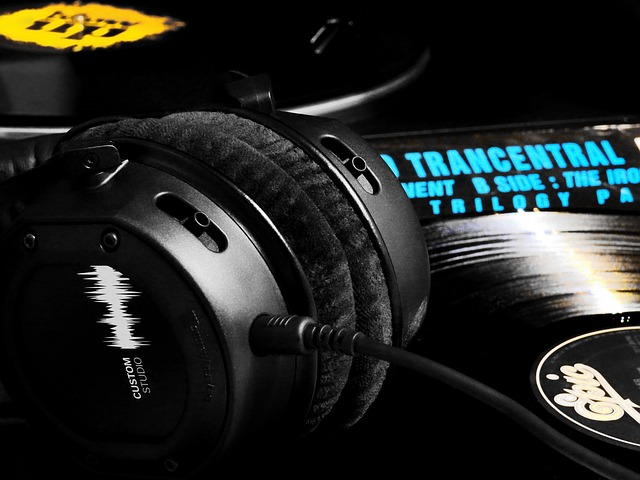headphones: (1, 107, 430, 480)
